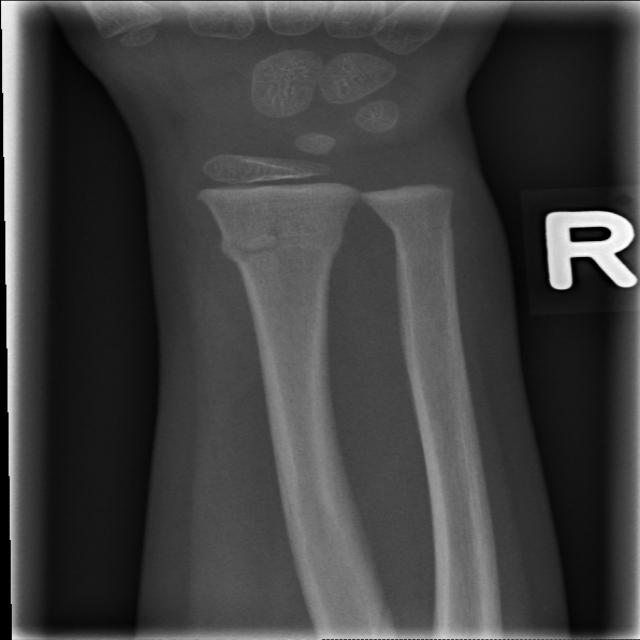radius fracture: (198, 206, 356, 310)
